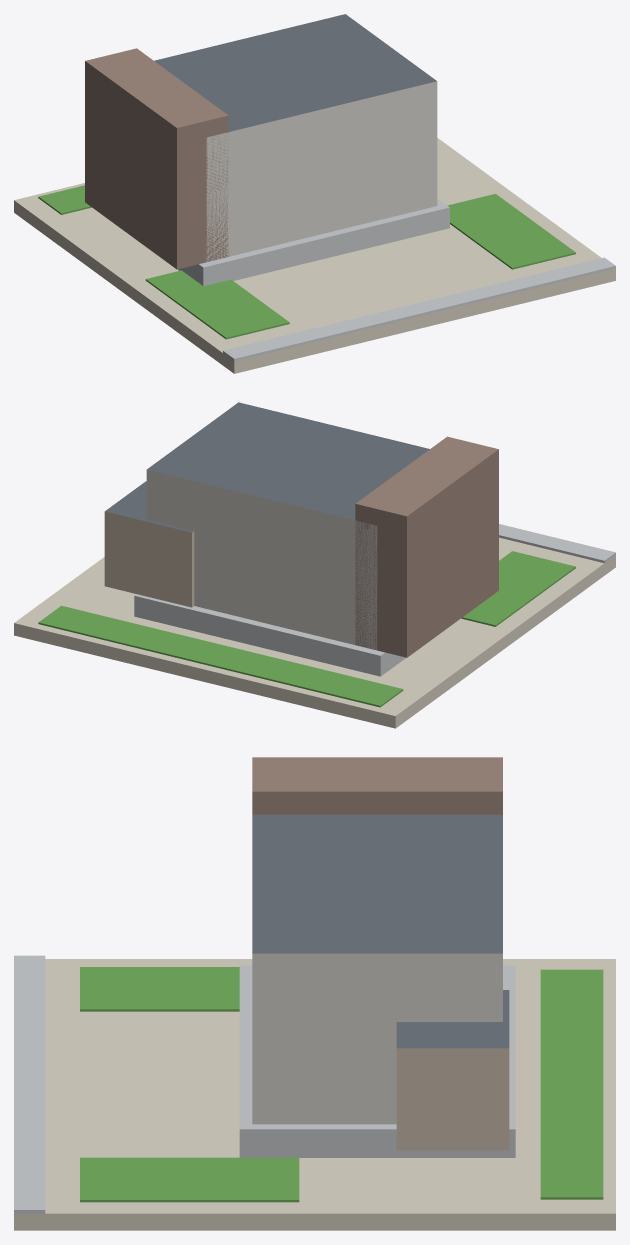
The picture shows the model from 3 angles, top to bottom: view 1: azimuth 30°, elevation 25°; view 2: azimuth 150°, elevation 25°; view 3: azimuth 270°, elevation 25°; orthographic projection. The views are drawn at different scales.
Visible parts, largest first — view 1: b23_v2_lod2; view 2: b23_v2_lod2; view 3: b23_v2_lod2.
Boxes of the visible parts, left/top/right/bottom form: b23_v2_lod2: left=14, top=14, right=615, bottom=373; b23_v2_lod2: left=14, top=402, right=615, bottom=728; b23_v2_lod2: left=14, top=757, right=615, bottom=1230.
Size of the model in its own units: 0.96 by 0.42 by 0.96.
